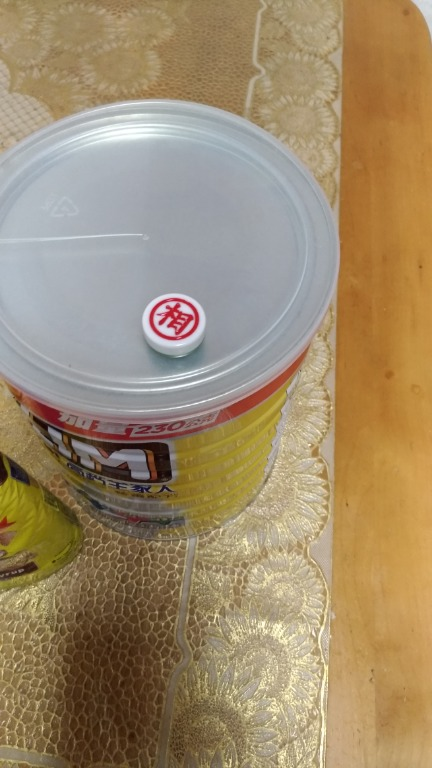r-elephant: (141, 282, 216, 365)
